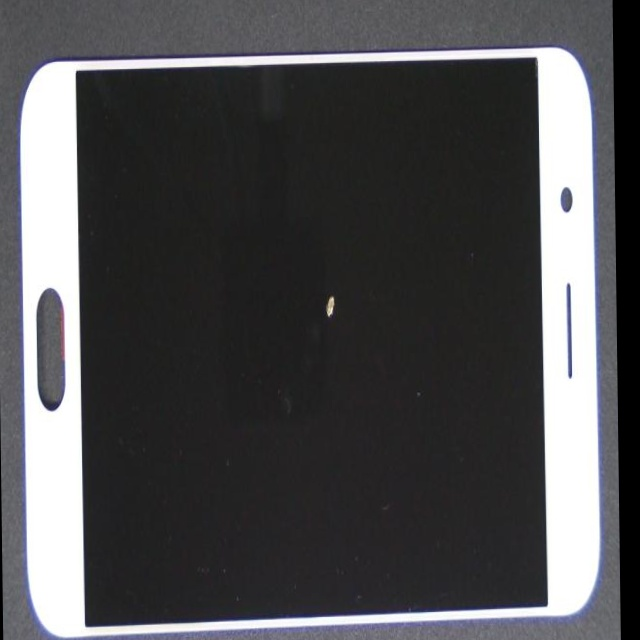stain: (189, 139, 514, 451)
